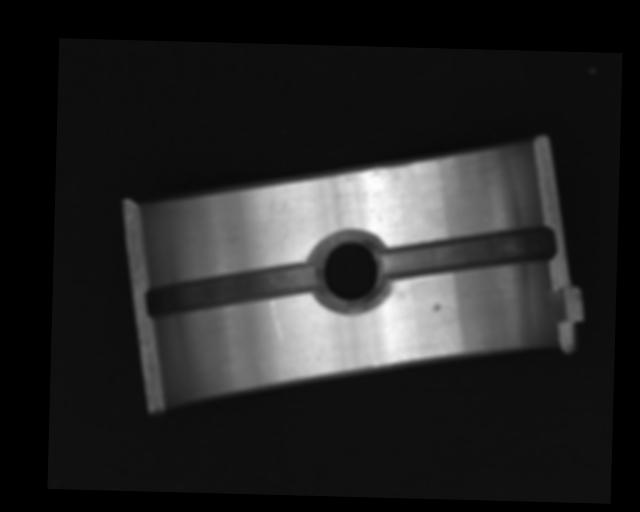bruise: (431, 302, 441, 311)
gap: (146, 258, 318, 322), (380, 222, 556, 281)
hole: (310, 229, 388, 315)
nick: (269, 299, 284, 343)
